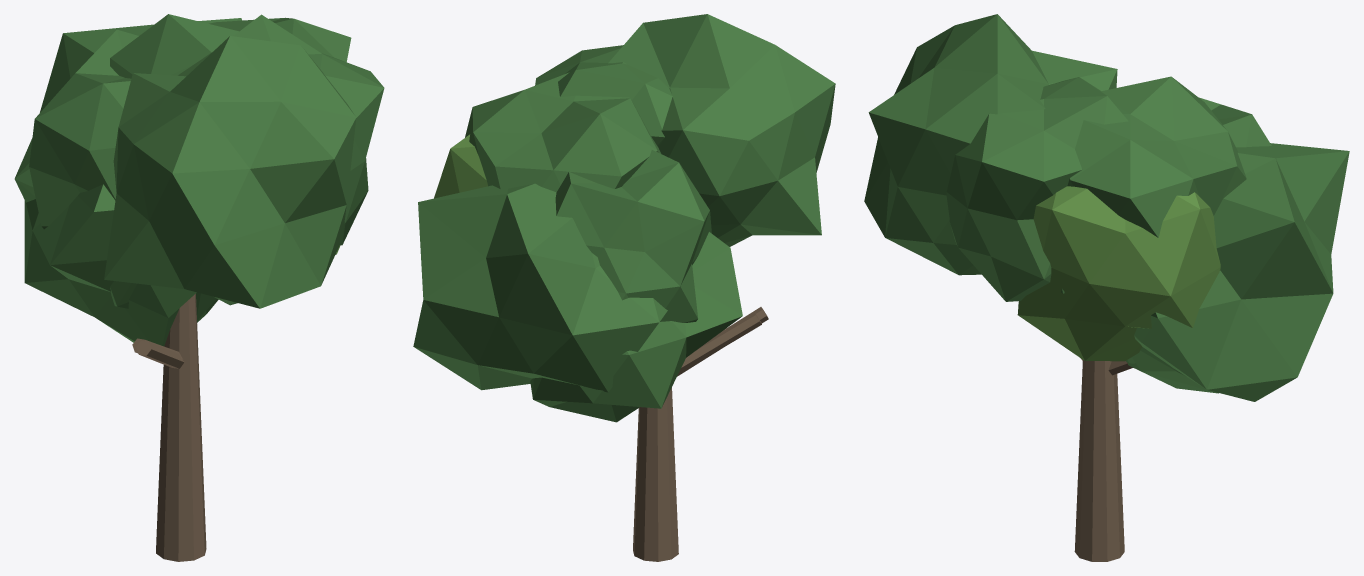
The model's file is Tree_Oak_2.fbx.
The picture shows the model from 3 angles, left to right: view 1: azimuth 30°, elevation 25°; view 2: azimuth 150°, elevation 25°; view 3: azimuth 270°, elevation 25°; orthographic projection. The views are drawn at different scales.
Visible parts, largest first — view 1: Tree_Oak_2; view 2: Tree_Oak_2; view 3: Tree_Oak_2.
Boxes of the visible parts, x1,y1,x2,y2 form: Tree_Oak_2: (14,14,384,561); Tree_Oak_2: (413,14,835,561); Tree_Oak_2: (864,14,1349,561).
Size of the model in its own units: 5.74 by 7.4 by 9.02.
